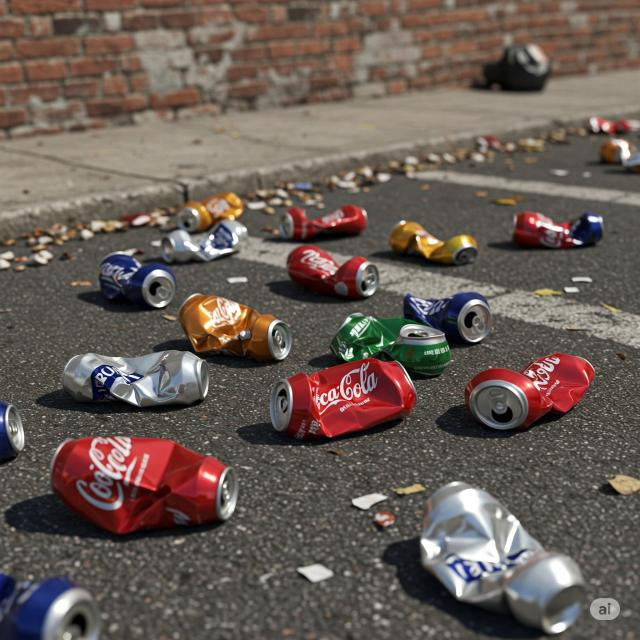aluminum: (416, 482, 589, 634), (49, 428, 238, 536), (262, 358, 422, 442), (464, 352, 600, 430), (64, 344, 210, 414), (176, 293, 291, 363), (289, 243, 380, 301), (100, 252, 177, 312)
